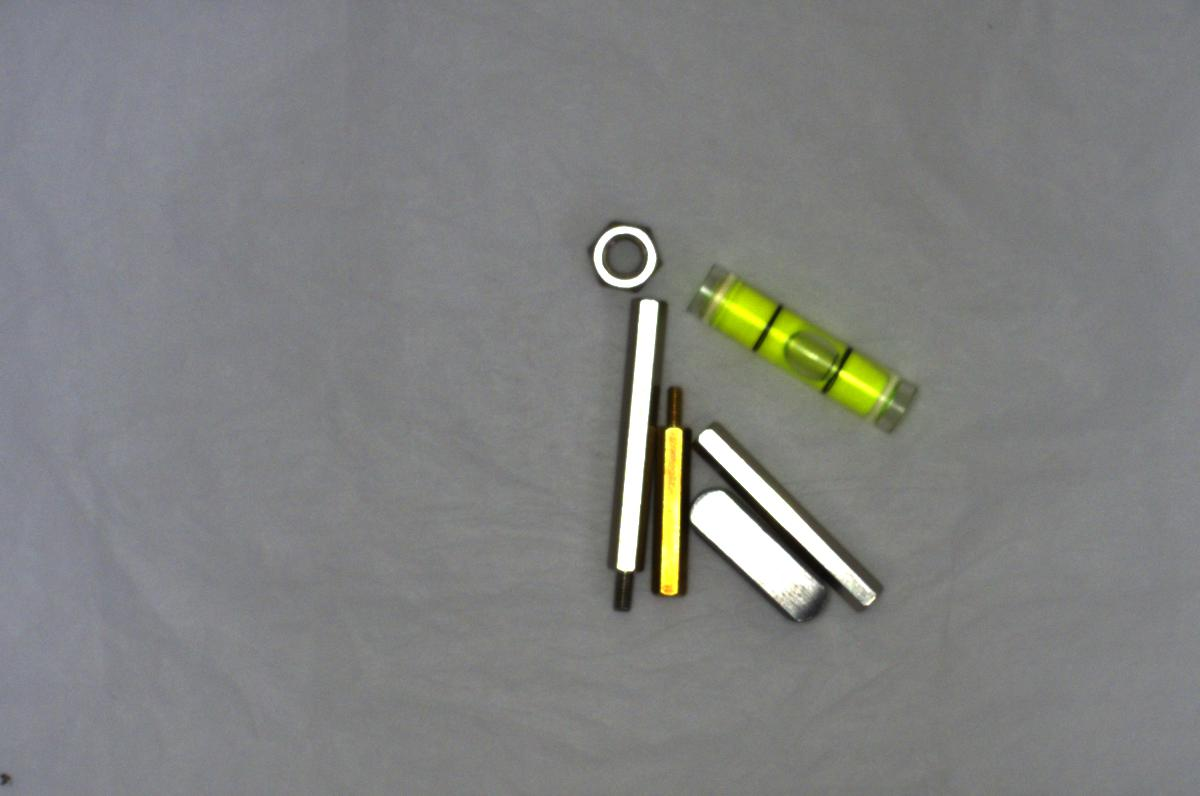Double hexagonal column: (689, 414, 887, 614)
Hexagon nut: (582, 213, 661, 290)
Hexagon pillar: (657, 383, 694, 603)
Hexagonal steel column: (603, 294, 666, 617)
Horizontal bubble: (687, 254, 928, 433)
Keybar: (684, 482, 844, 630)
